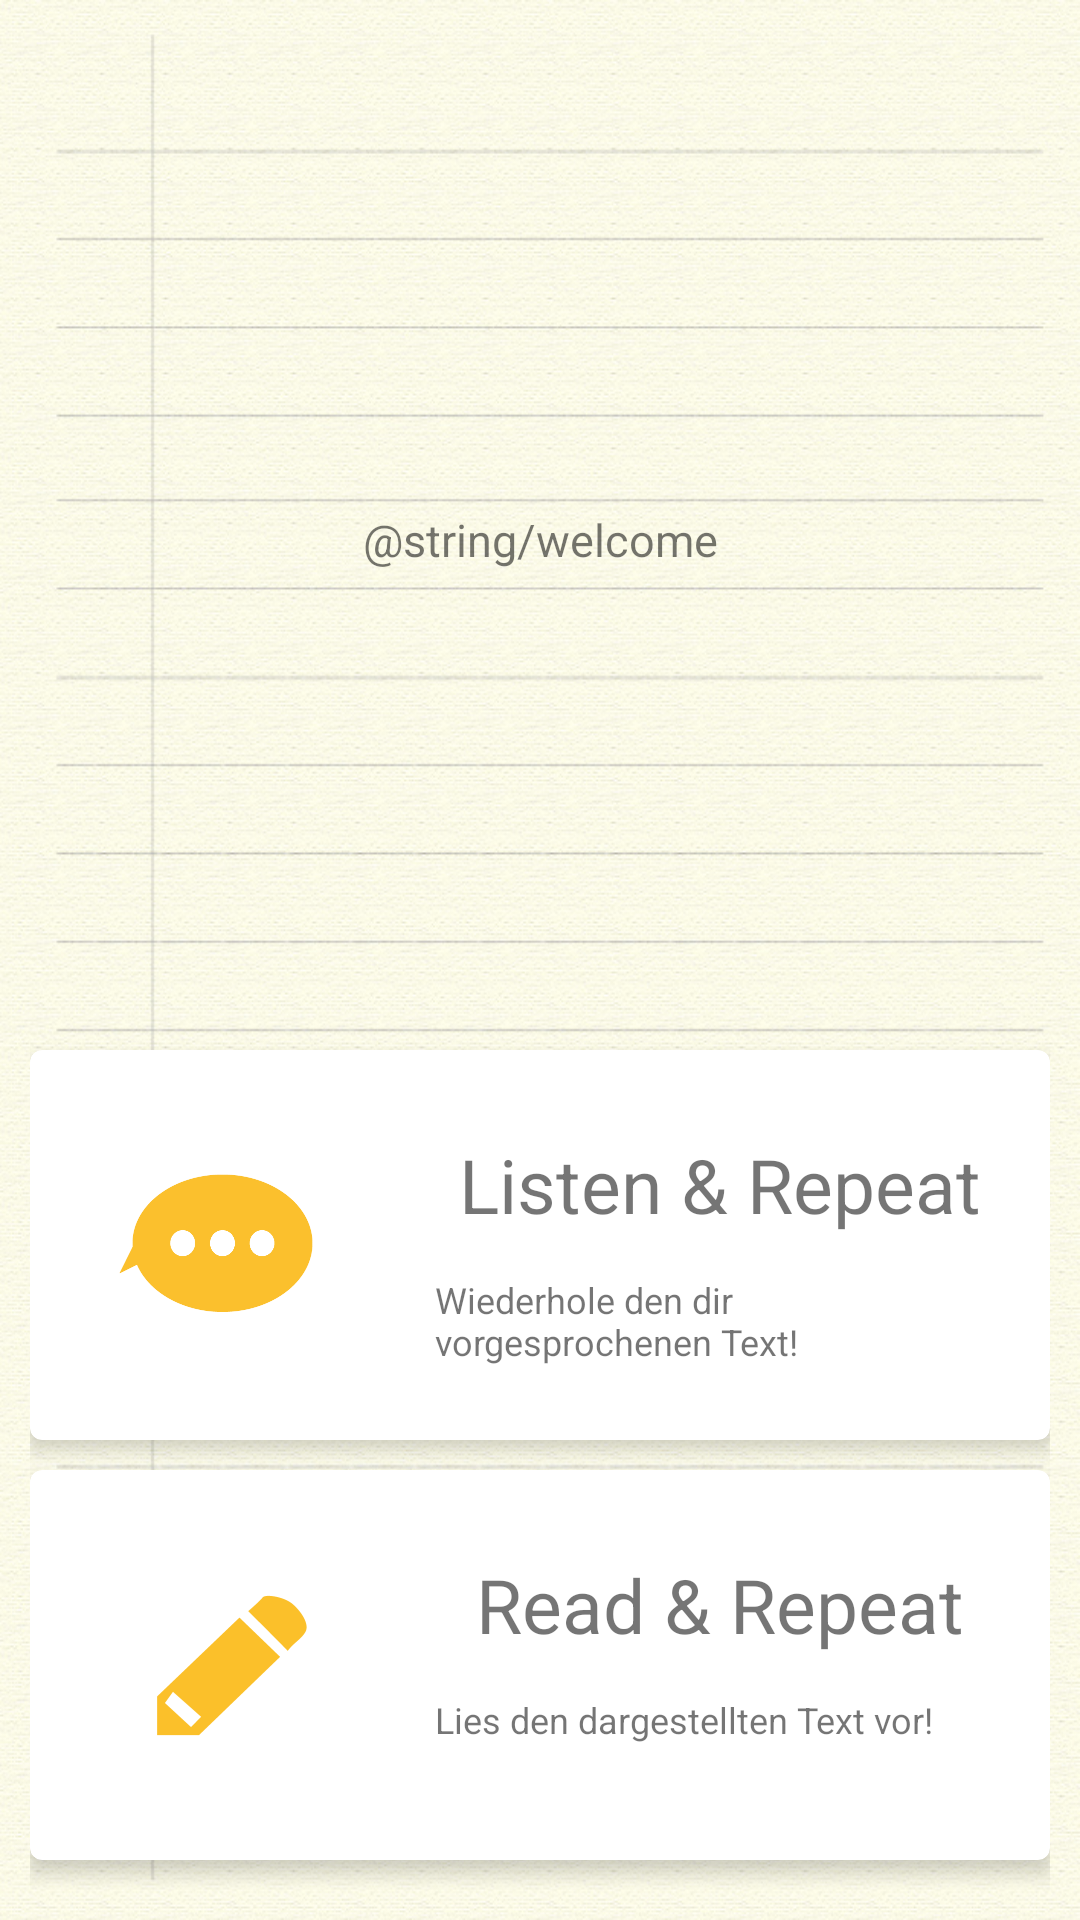

Screen size 1080 × 1920. Icon name, then its center in pixels as (x,y):
speak: (216,1243)
write: (232,1665)
